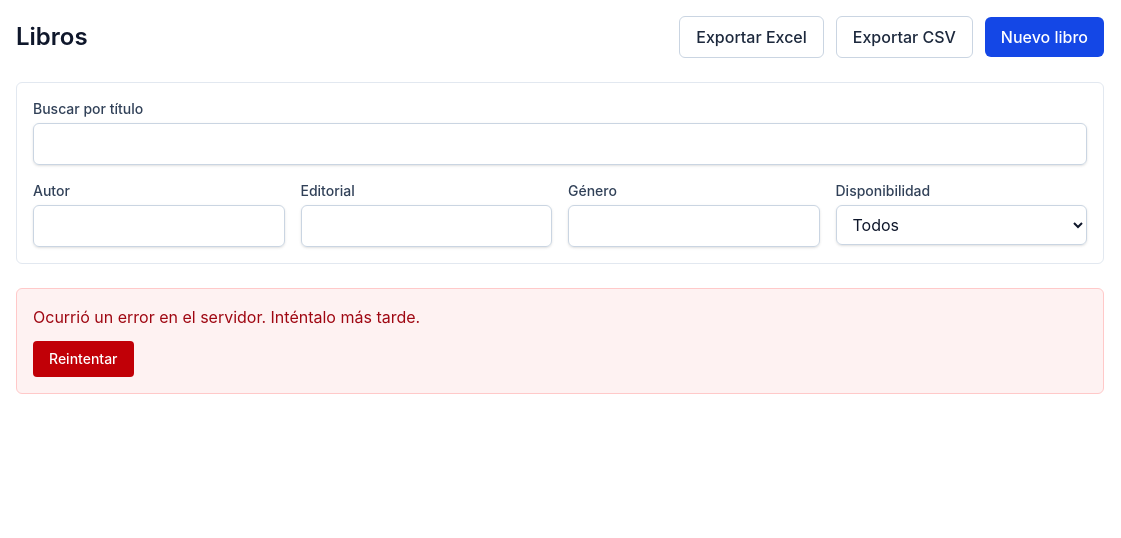
it: BooksPage › when the list cannot be read › shows the error with a retry and recovers
Expected: the message "Ocurrió un error en el servidor. Inténtalo más tarde. Reintentar" is shown, [16, 288, 1104, 394]
What coordinates should you click on to do the following:
click the button "Reintentar"
I would click on:
 (83, 359)
Its box is [33, 341, 134, 377].
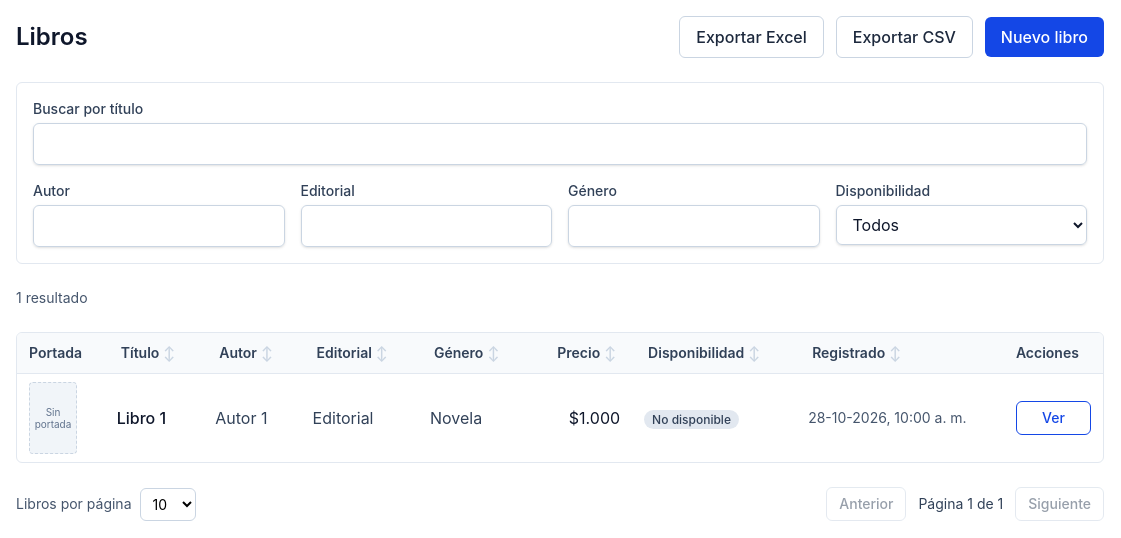
Result: the text "1 resultado" is shown at [16, 288, 88, 308]
